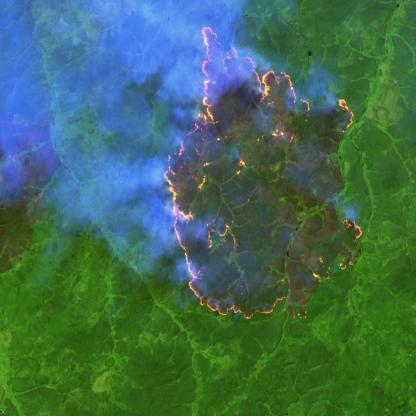fire: (162, 19, 364, 328)
